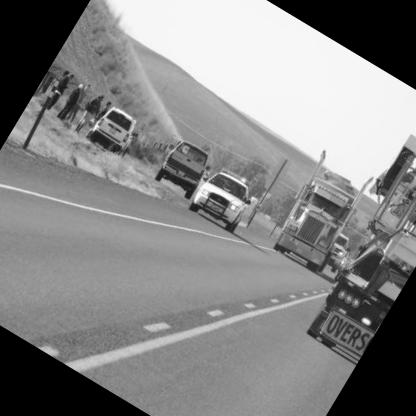car: (184, 158, 270, 243)
truck: (247, 143, 381, 291), (79, 97, 167, 182), (186, 155, 264, 238), (154, 130, 218, 201)
